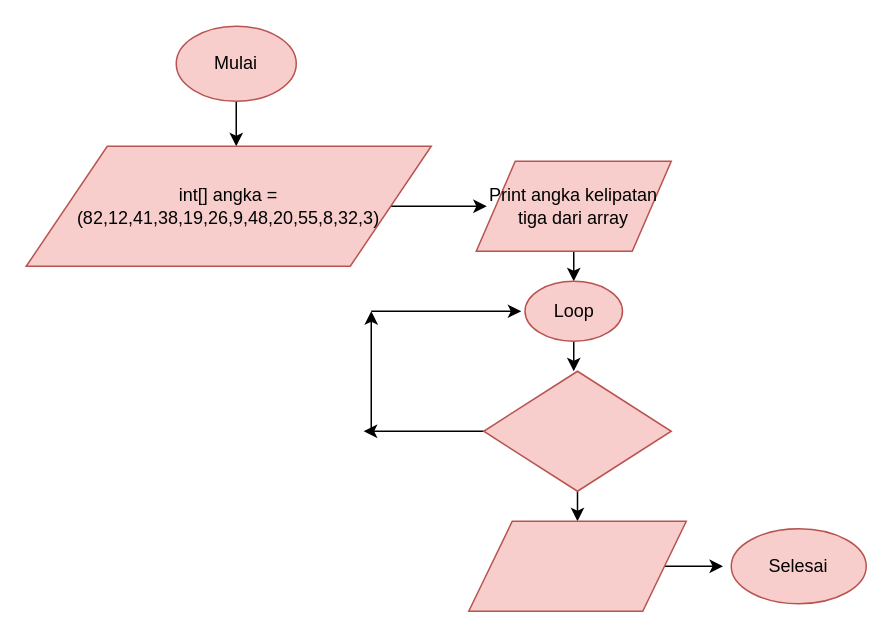
Some shapes in this 893 by 638 pixel diagram are drawn without their labels. The shapes that lost their labels are listed below. From the top down, each one's centre as x and y in pixels, then its label:
At (576,430): "int indeks=0; indeks < angka; indeks+3".
At (576,565): "Print (angka[indeks])".
